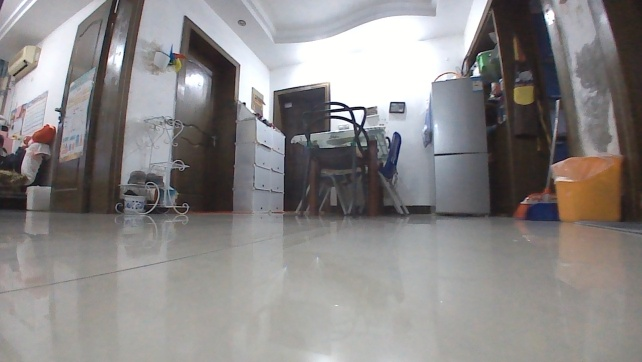blanket: (573, 217, 641, 235)
dining_table: (287, 100, 413, 218)
door_anno: (47, 0, 120, 215), (170, 44, 231, 208)
refrigerator: (425, 74, 493, 220)
